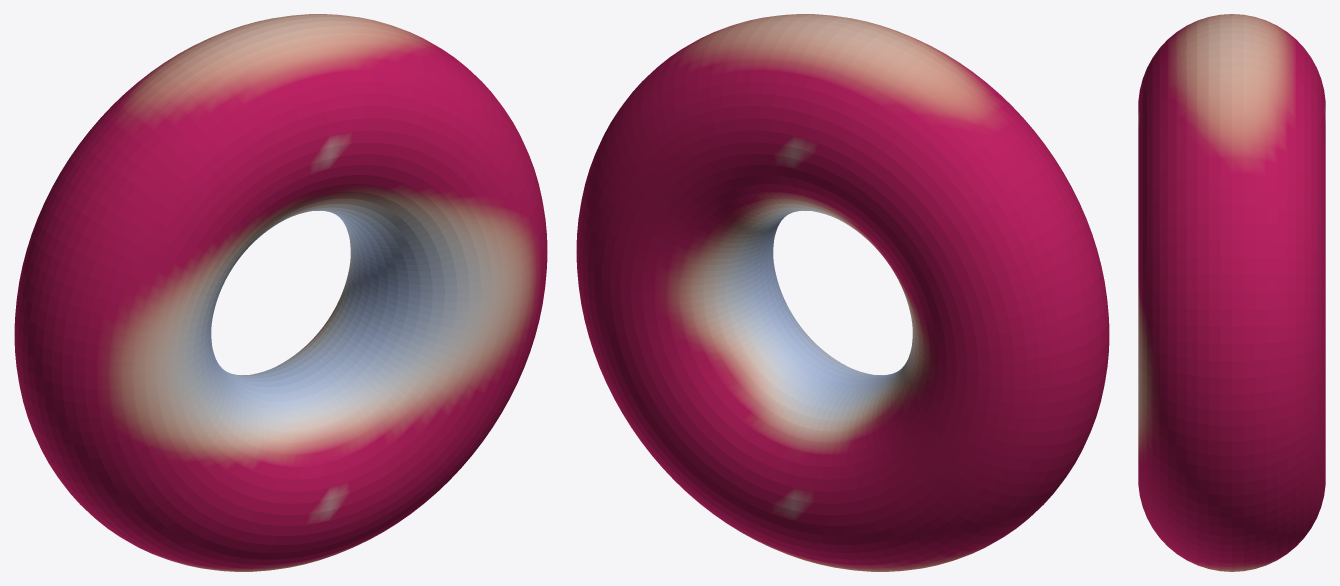
The picture shows the model from 3 angles, left to right: view 1: azimuth 30°, elevation 25°; view 2: azimuth 150°, elevation 25°; view 3: azimuth 270°, elevation 25°; orthographic projection. The views are drawn at different scales.
Parts seen in each view (by area): view 1: world; view 2: world; view 3: world.
Boxes of the visible parts, x1=… form: world: x1=14, y1=14, x2=547, y2=571; world: x1=576, y1=14, x2=1109, y2=571; world: x1=1138, y1=14, x2=1325, y2=571.
Size of the model in its own units: 28.13 by 28.13 by 9.45.
